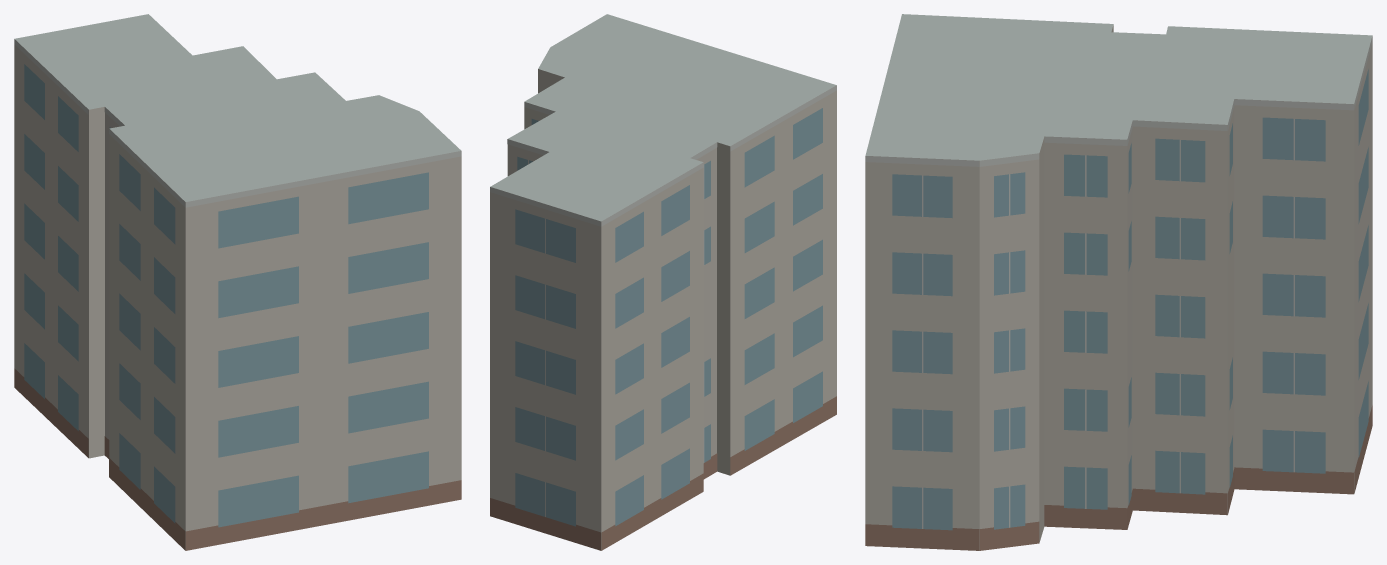
The model's file is survey-upis-32996453.glb.
3 renders of one model, left to right at view 1: azimuth 30°, elevation 25°; view 2: azimuth 150°, elevation 25°; view 3: azimuth 270°, elevation 25°, orthographic. The views are drawn at different scales.
Visible parts, largest first — view 1: survey-upis-32996453.tmp; view 2: survey-upis-32996453.tmp; view 3: survey-upis-32996453.tmp.
Boxes of the visible parts, left/top/right/bottom form: survey-upis-32996453.tmp: left=14, top=14, right=461, bottom=550; survey-upis-32996453.tmp: left=490, top=14, right=836, bottom=550; survey-upis-32996453.tmp: left=865, top=14, right=1372, bottom=550.
Size of the model in its own units: 12.3 by 15.25 by 17.97.
